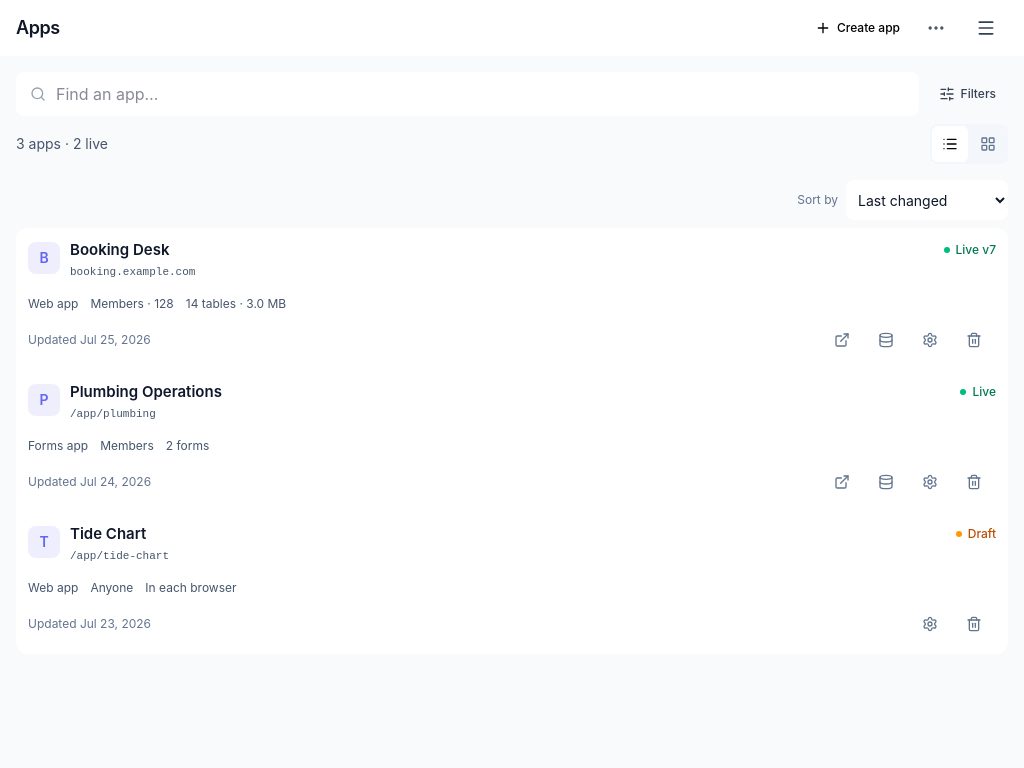
Scenario: app management navigation › the table › says what deleting a SoftN app does to its data
Click the button named "Remove Booking Desk": (974, 340) [952,318,996,362]
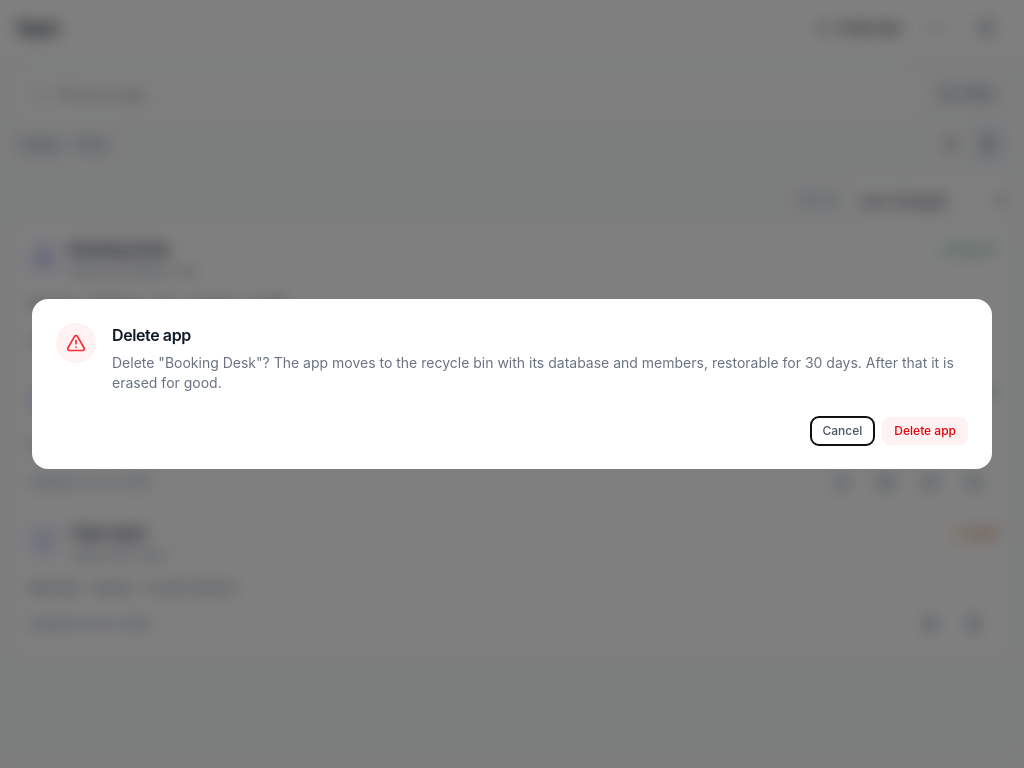
Now the text "moves to the recycle bin with its database and members" is shown, box [112,354,954,391]
